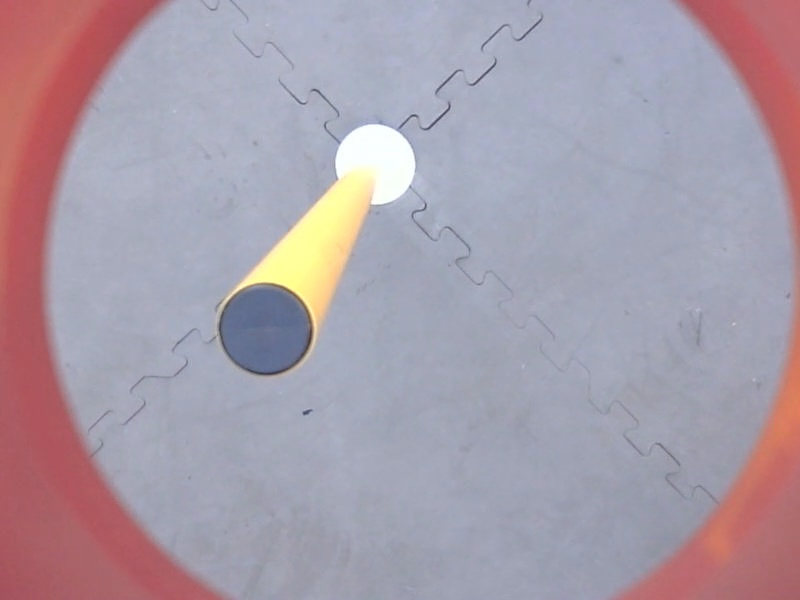tip: (214, 274, 325, 382)
